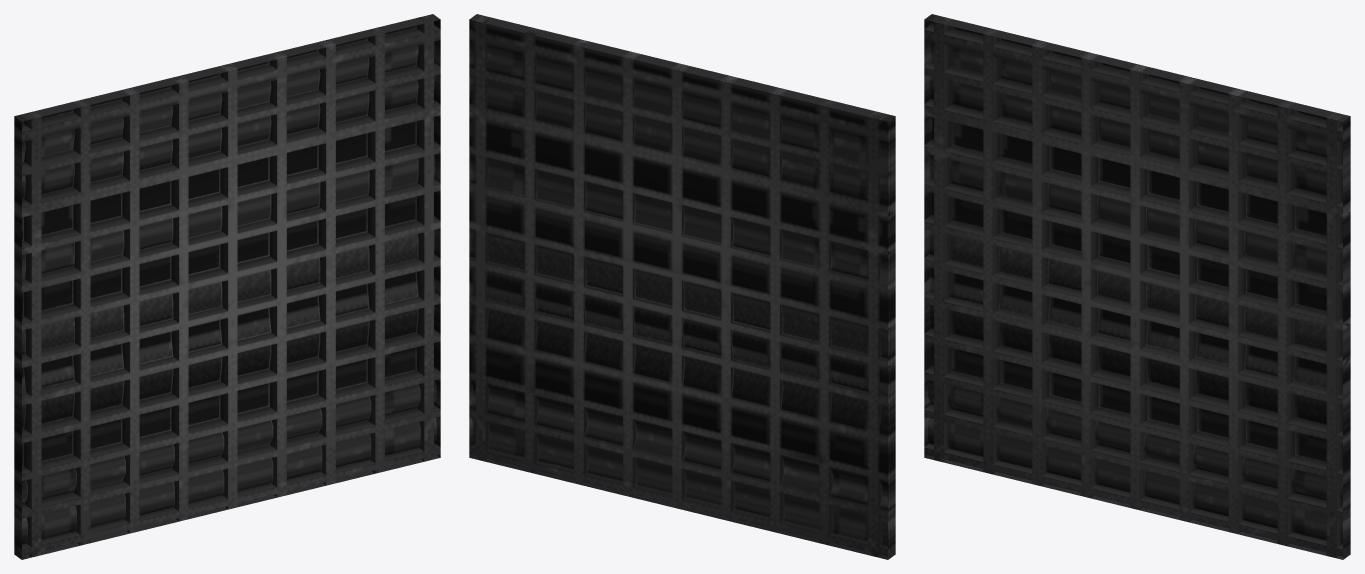
File: maint2_3.fbx
The picture shows the model from 3 angles, left to right: view 1: azimuth 30°, elevation 25°; view 2: azimuth 150°, elevation 25°; view 3: azimuth 330°, elevation 25°; orthographic projection.
Parts seen in each view (by area): view 1: maint2_3.001, maint2_3_edges, maint2_3.004, maint2_3.003, maint2_3.000, maint2_3.002; view 2: maint2_3_edges, maint2_3.001, maint2_3.004, maint2_3.003, maint2_3.000; view 3: maint2_3.001, maint2_3_edges, maint2_3.000, maint2_3.003, maint2_3.004, maint2_3.002.
Part boxes in pixels (bbox=[...]): maint2_3.001: bbox=[14, 16, 440, 557]; maint2_3_edges: bbox=[22, 25, 436, 544]; maint2_3.004: bbox=[14, 116, 21, 559]; maint2_3.003: bbox=[14, 14, 440, 121]; maint2_3.000: bbox=[434, 19, 440, 457]; maint2_3.002: bbox=[22, 455, 440, 559]; maint2_3_edges: bbox=[469, 19, 887, 559]; maint2_3.001: bbox=[469, 16, 895, 557]; maint2_3.004: bbox=[888, 116, 895, 559]; maint2_3.003: bbox=[469, 14, 895, 121]; maint2_3.000: bbox=[469, 40, 472, 456]; maint2_3.001: bbox=[924, 17, 1350, 558]; maint2_3_edges: bbox=[928, 21, 1342, 544]; maint2_3.000: bbox=[1343, 116, 1350, 559]; maint2_3.003: bbox=[924, 14, 1350, 121]; maint2_3.004: bbox=[924, 19, 931, 457]; maint2_3.002: bbox=[924, 455, 1342, 559].
Size of the model in its own units: 256 by 256 by 8.
